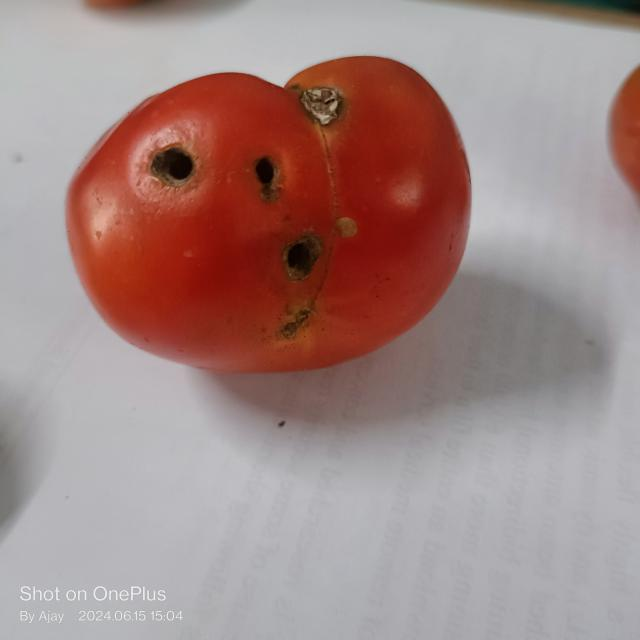fruitworm_bore: (280, 226, 327, 290), (145, 141, 200, 194), (244, 148, 285, 205)
